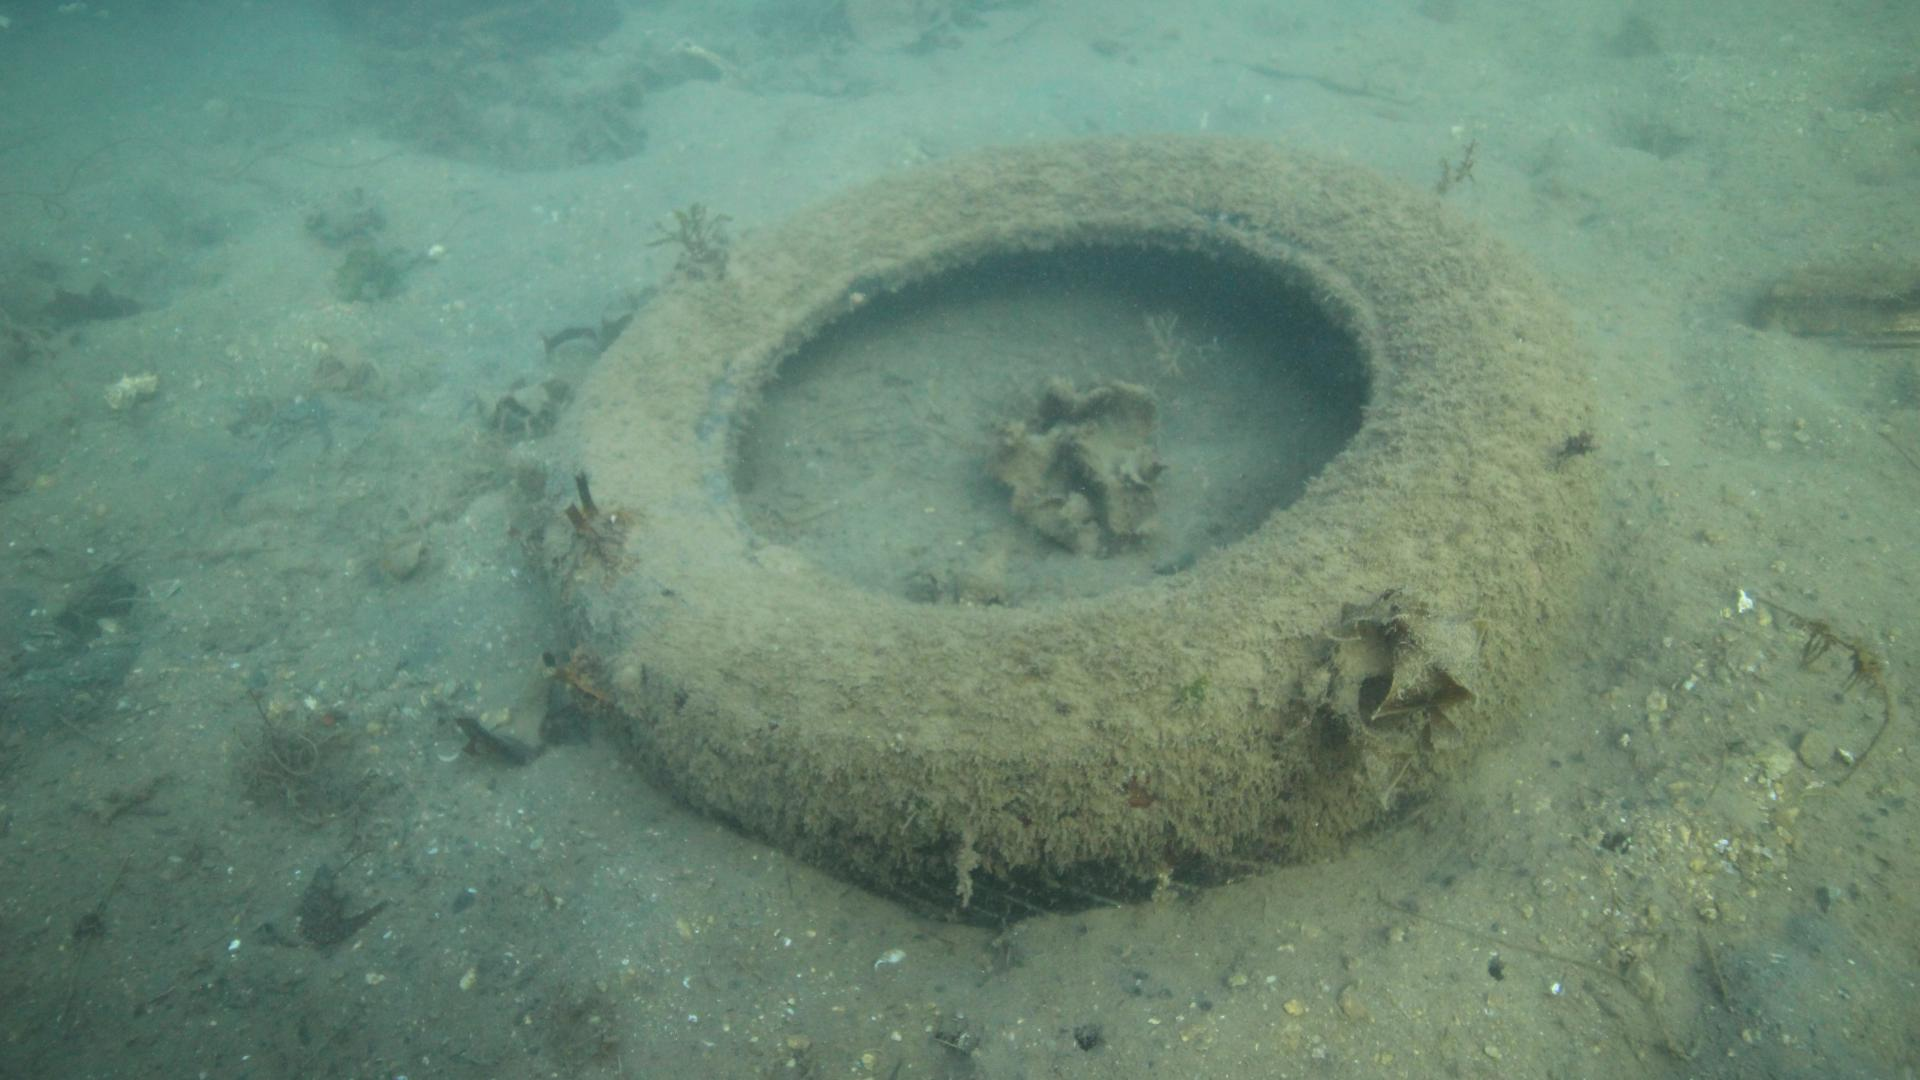tire: (542, 131, 1601, 924)
